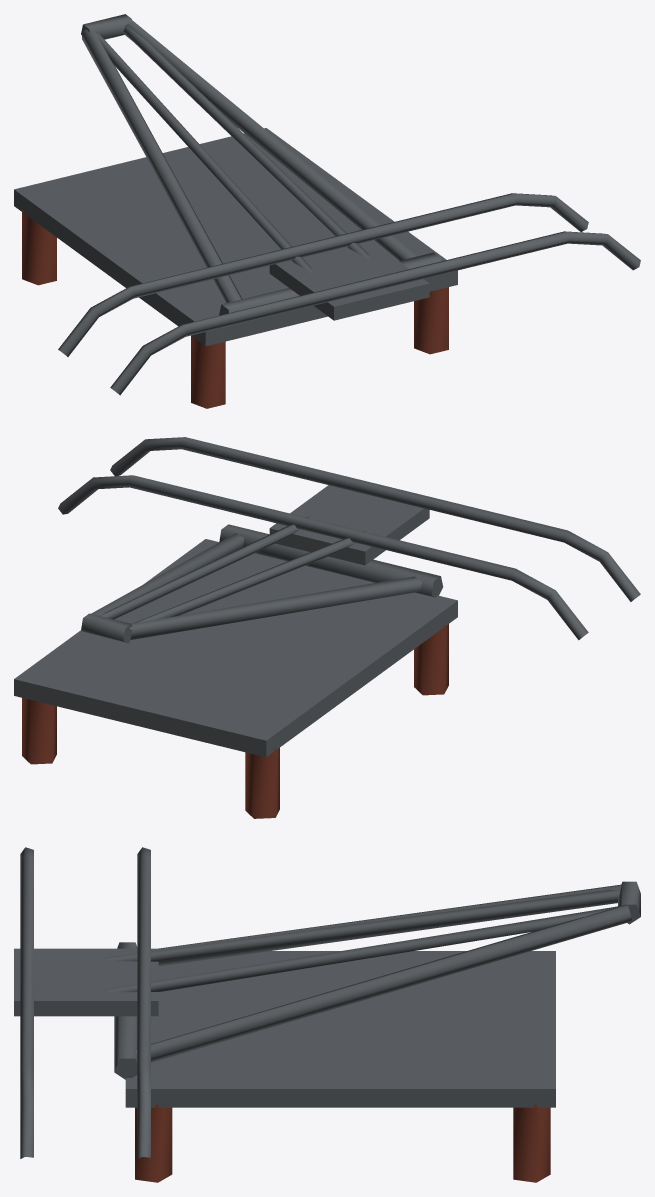
File: pantograph_lod1_m.glb
The picture shows the model from 3 angles, top to bottom: view 1: azimuth 30°, elevation 25°; view 2: azimuth 150°, elevation 25°; view 3: azimuth 270°, elevation 25°; orthographic projection. The views are drawn at different scales.
Visible parts, largest first — view 1: panto_base, panto_head, panto_lower, panto_upper; view 2: panto_base, panto_head, panto_lower, panto_upper; view 3: panto_base, panto_head, panto_lower, panto_upper.
Boxes of the visible parts, x1,y1,x2,y2 form: panto_base: [14, 128, 457, 408]; panto_head: [58, 193, 640, 395]; panto_lower: [82, 20, 441, 315]; panto_upper: [81, 14, 369, 273]; panto_base: [14, 539, 457, 818]; panto_head: [58, 437, 640, 640]; panto_lower: [91, 524, 443, 639]; panto_upper: [81, 515, 372, 643]; panto_base: [125, 951, 555, 1182]; panto_head: [14, 847, 158, 1158]; panto_lower: [114, 884, 631, 1079]; panto_upper: [103, 881, 640, 992].
Bounding box in the file's own units: 1.99 × 0.7065 × 1.82.
